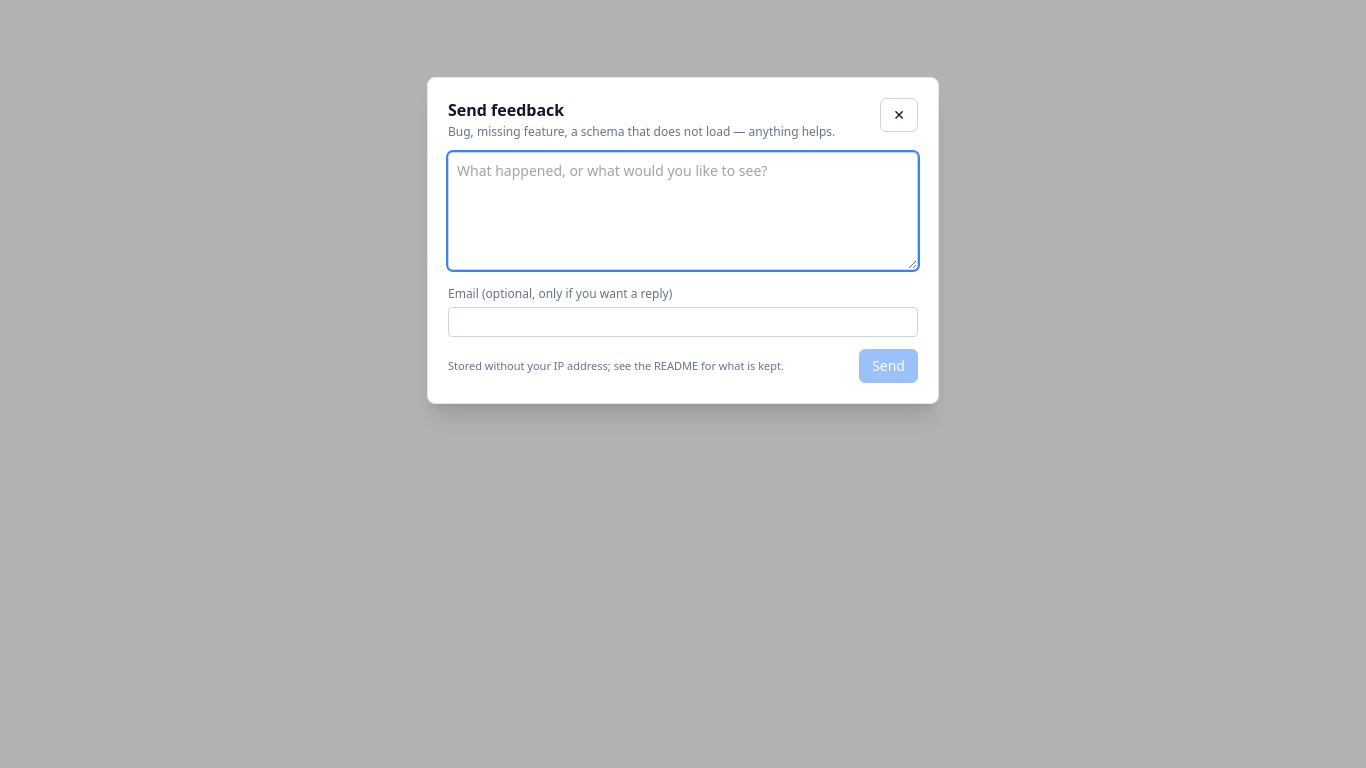
Test case: FeedbackDialog › shows the server error and keeps the text
Type "hi" into the text box with placeholder "What happened, or what would you like to see?" at (683, 211), box [448,152,918,270]
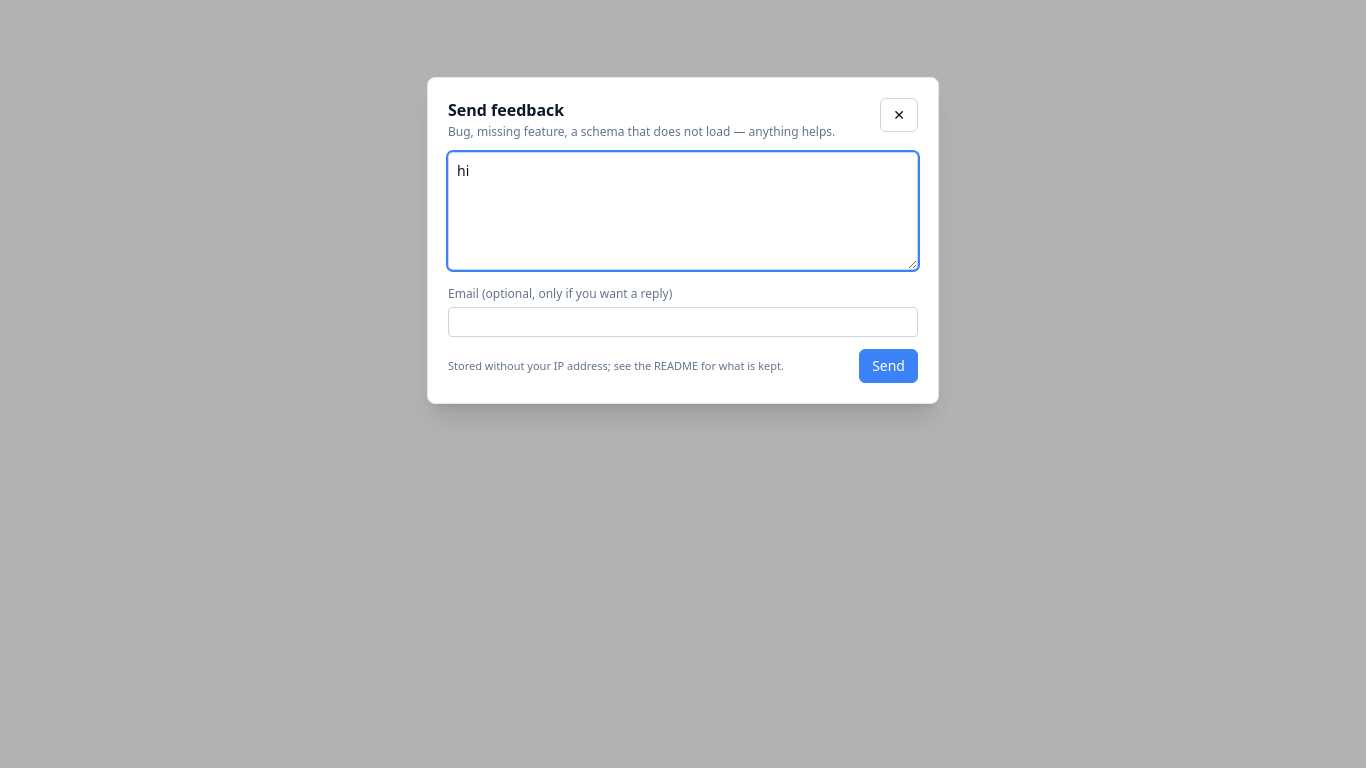
Click the button "Send" at (889, 366), box [859,349,918,383]
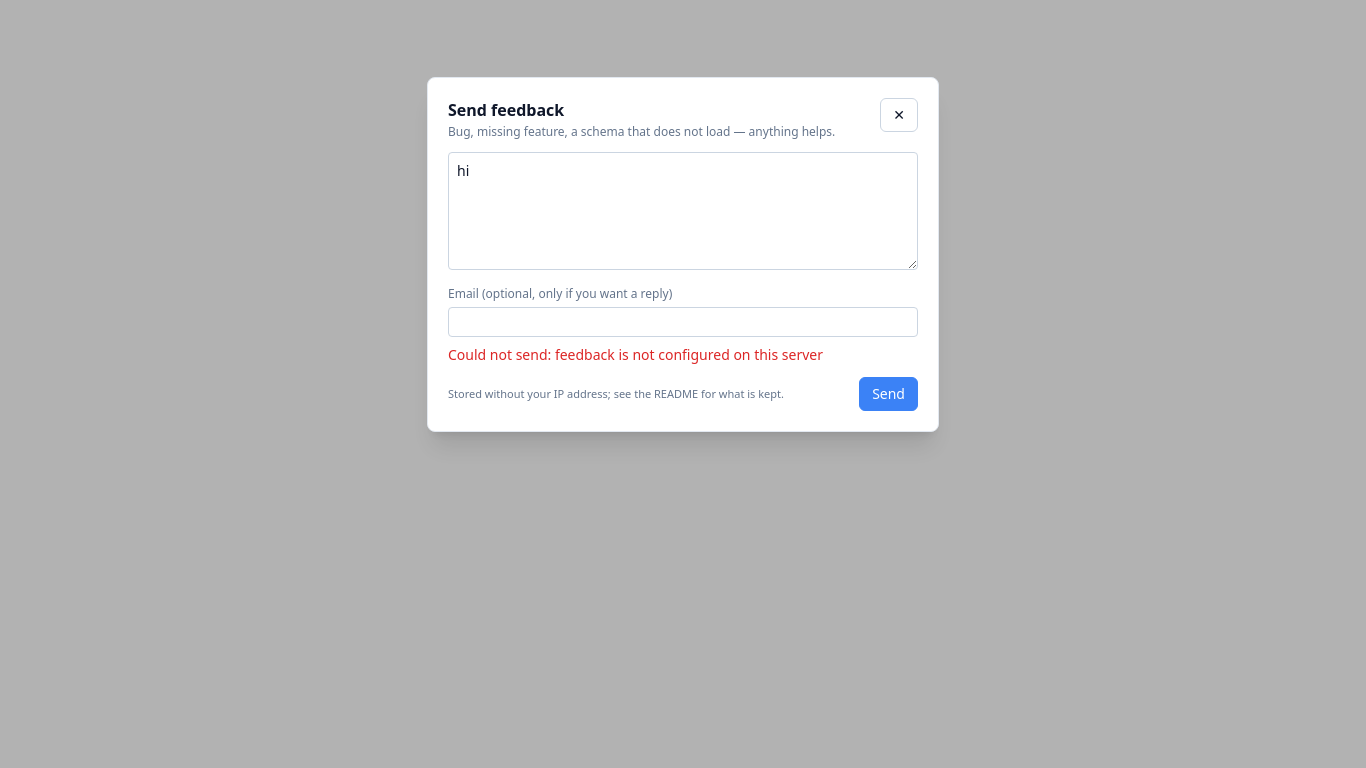
Expected: the message shows "not configured", [555,345,823,364]
